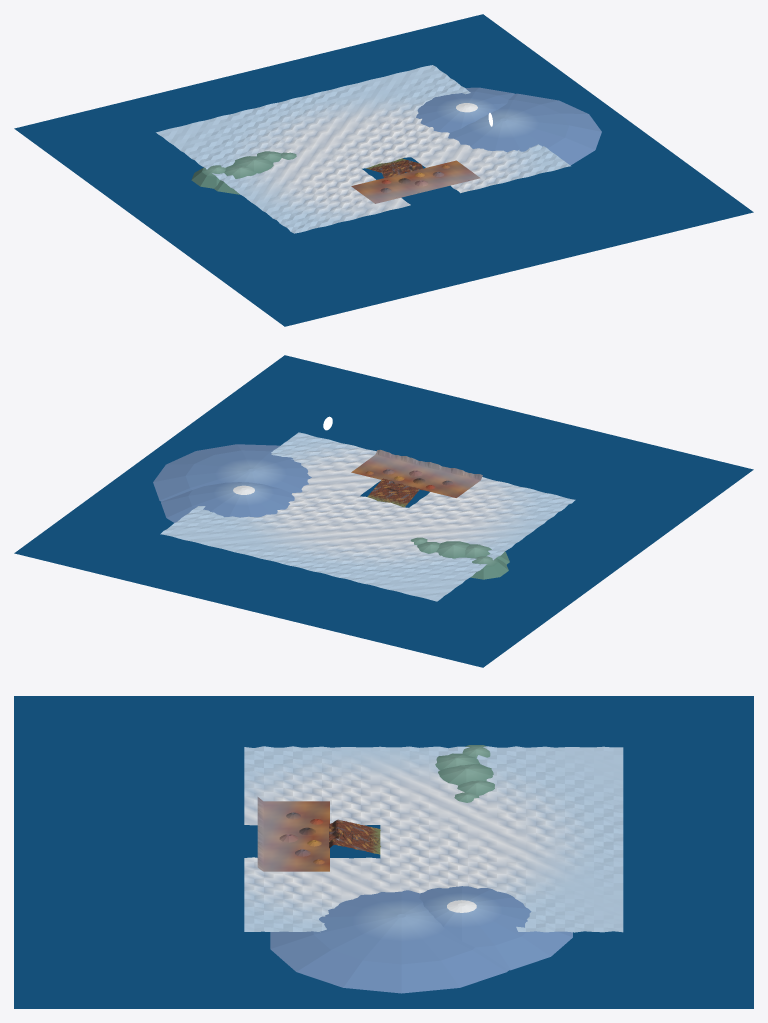
File: haleakala.glb
3 renders of one model, top to bottom at view 1: azimuth 30°, elevation 25°; view 2: azimuth 150°, elevation 25°; view 3: azimuth 270°, elevation 25°, orthographic. The views are drawn at different scales.
Parts seen in each view (by area): view 1: Sea, HkWindCloud, HkCraterFloor; view 2: Sea, HkWindCloud, HkCraterFloor; view 3: Sea, HkWindCloud, HkCraterFloor.
Boxes of the visible parts, bbox=[...] form: Sea: bbox=[14, 14, 753, 326]; HkWindCloud: bbox=[156, 65, 601, 233]; HkCraterFloor: bbox=[351, 160, 480, 203]; Sea: bbox=[14, 355, 753, 667]; HkWindCloud: bbox=[153, 432, 575, 601]; HkCraterFloor: bbox=[351, 449, 482, 497]; Sea: bbox=[14, 696, 753, 1008]; HkWindCloud: bbox=[244, 745, 623, 993]; HkCraterFloor: bbox=[257, 797, 329, 871].
Size of the model in its own units: 32000 by 3652 by 32000.
